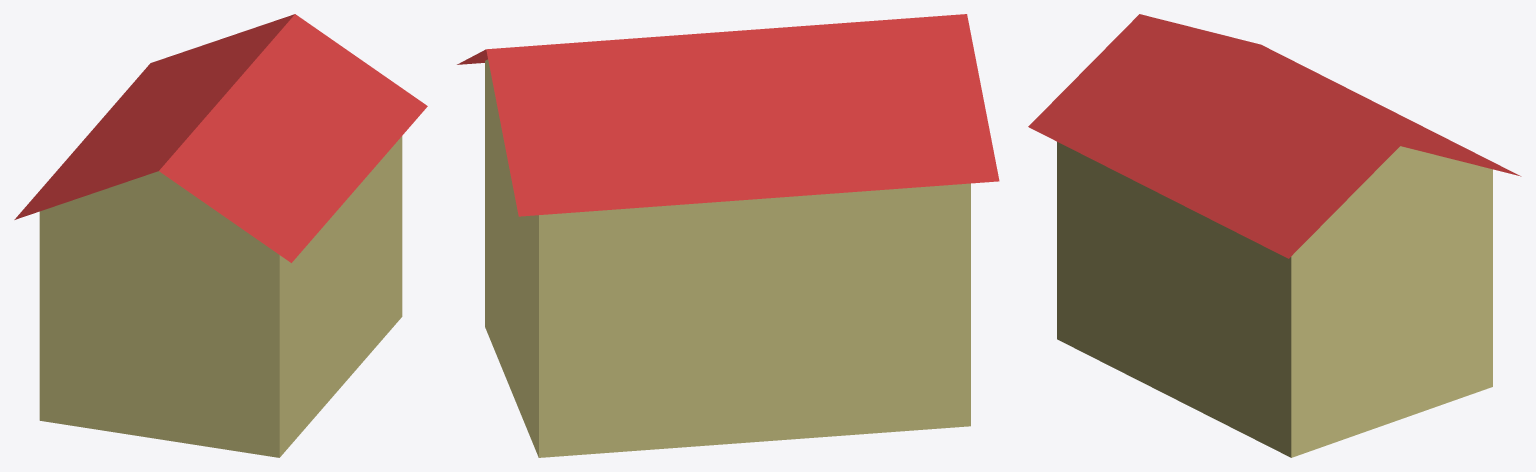
3 renders of one model, left to right at view 1: azimuth 30°, elevation 25°; view 2: azimuth 150°, elevation 25°; view 3: azimuth 270°, elevation 25°, orthographic. The views are drawn at different scales.
Parts seen in each view (by area): view 1: group_5, group_3, group_4; view 2: group_5, group_3, group_4; view 3: group_5, group_3, group_4.
Boxes of the visible parts, left/top/right/bottom form: group_5: left=39, top=136, right=402, bottom=457; group_3: left=22, top=14, right=424, bottom=262; group_4: left=14, top=14, right=427, bottom=261; group_5: left=485, top=59, right=970, bottom=457; group_3: left=457, top=15, right=998, bottom=216; group_4: left=523, top=14, right=999, bottom=216; group_5: left=1057, top=142, right=1492, bottom=457; group_3: left=1028, top=14, right=1521, bottom=258; group_4: left=1029, top=14, right=1503, bottom=258.
Bounding box in the file's own units: 18.48 × 18 × 11.46.
